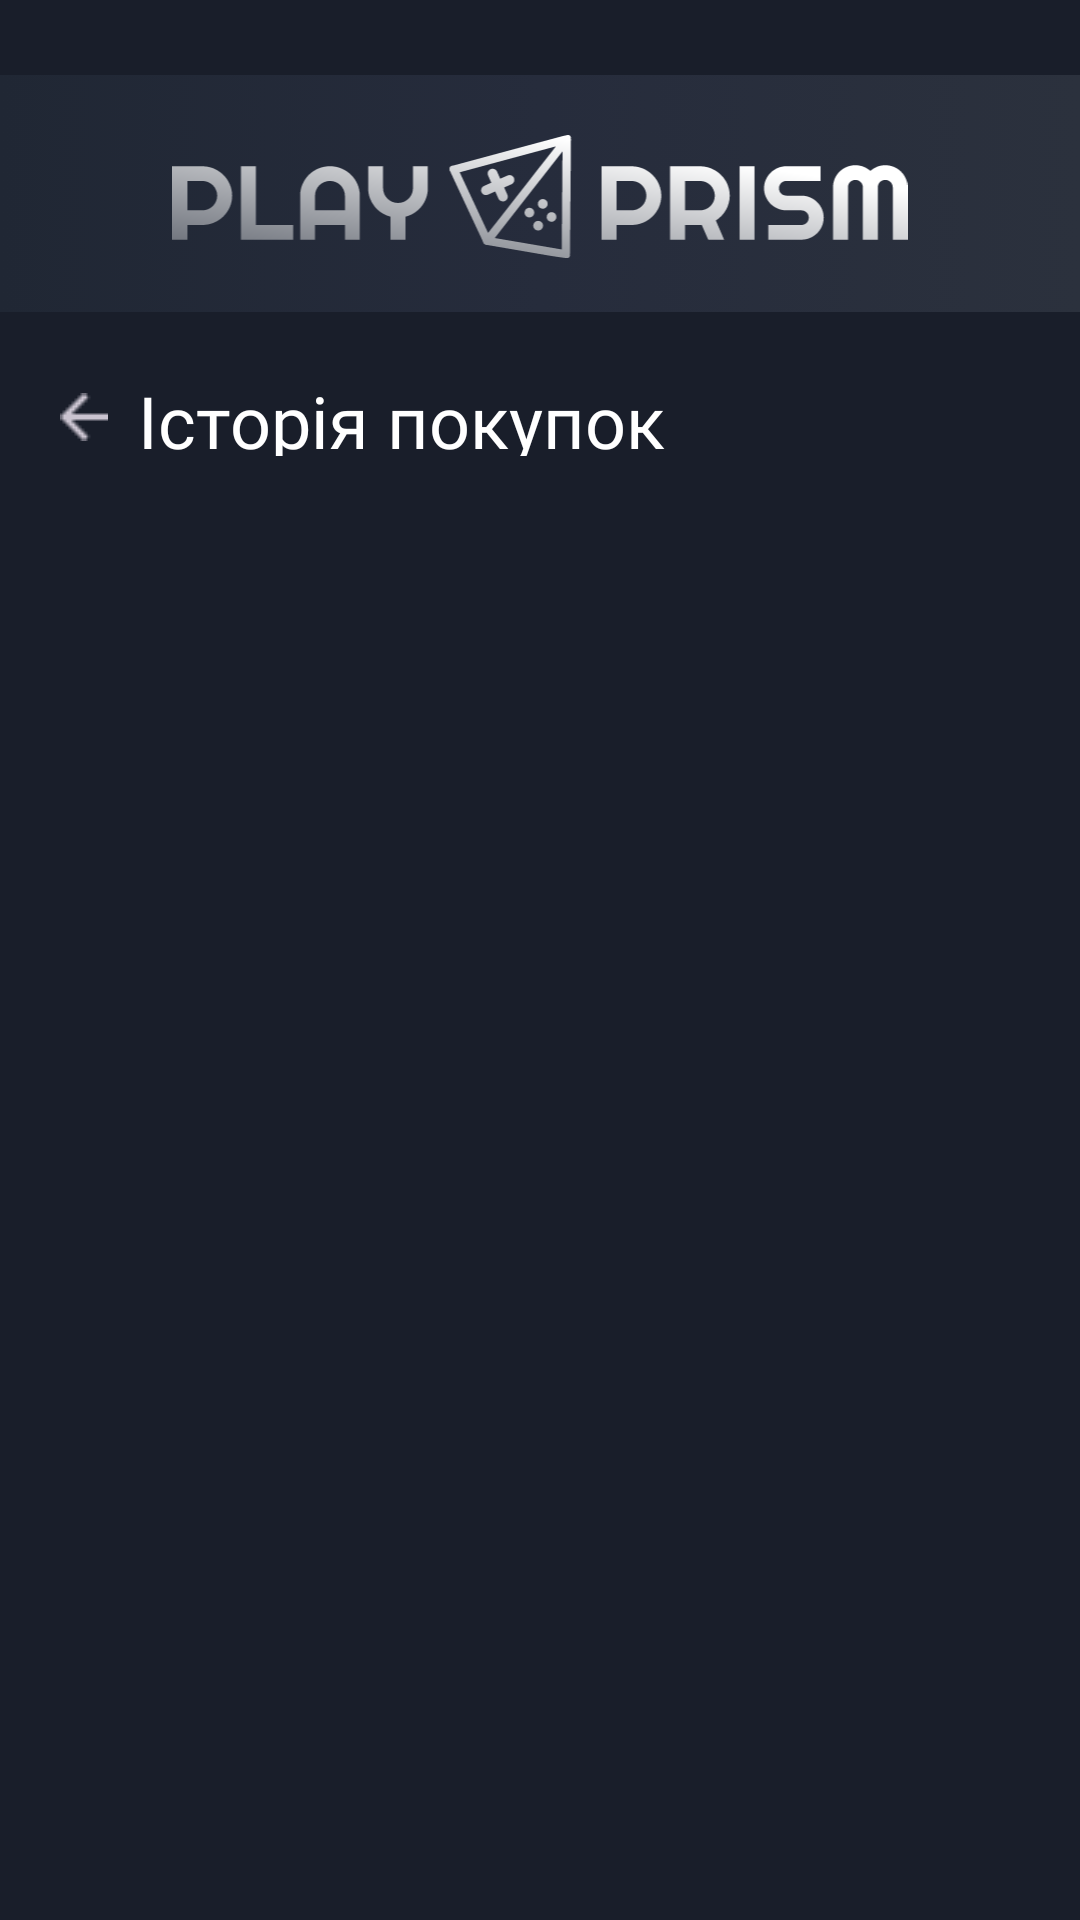

Point at icon controls on the screen. Image size 1080 x 1920, points as (x,y).
backforwarding: (84,417)
